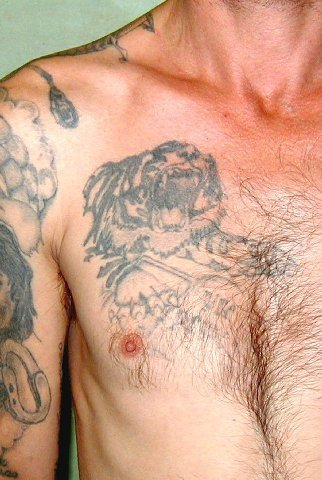tatu5_tigr: (73, 137, 292, 315)
